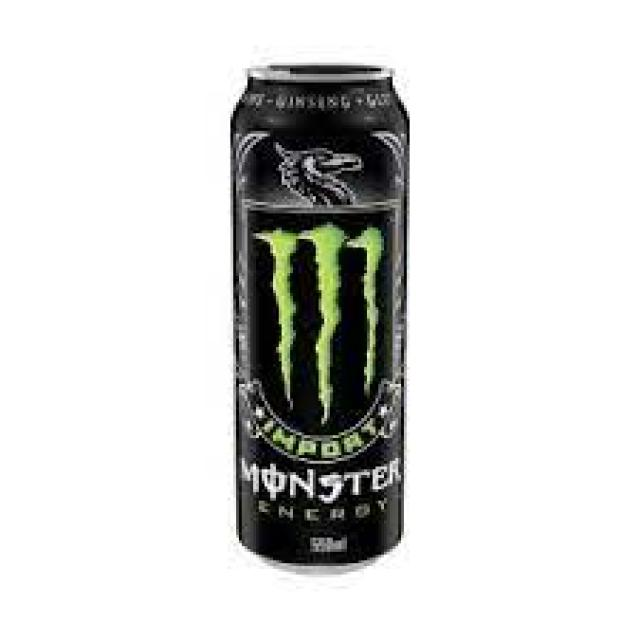Cans: (209, 48, 422, 602)
